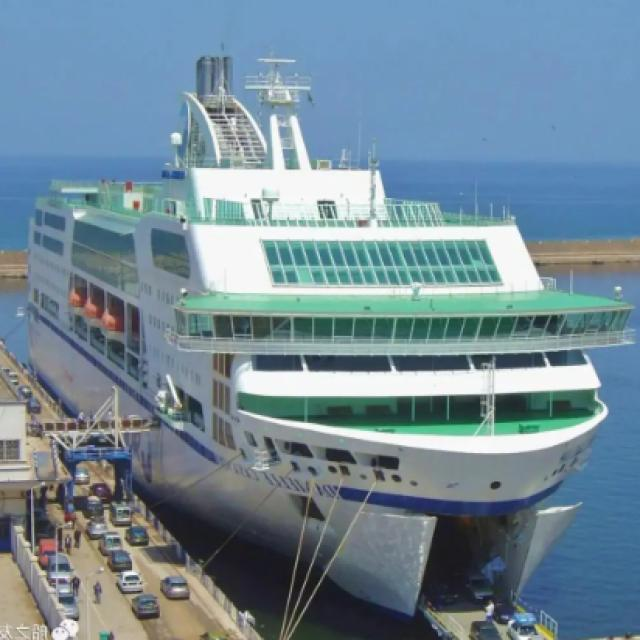passenger ship: (11, 19, 640, 607)
